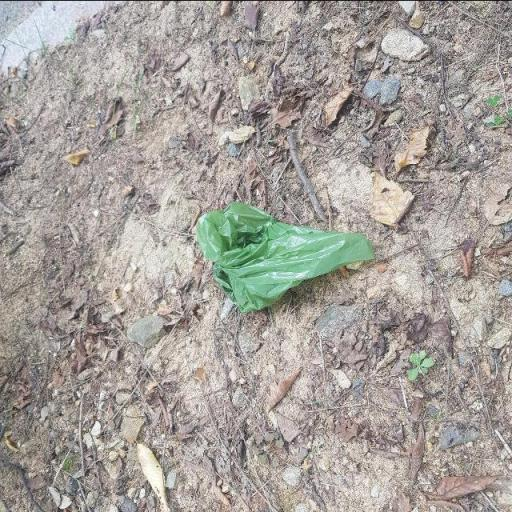plastic-bag: (192, 204, 378, 317)
